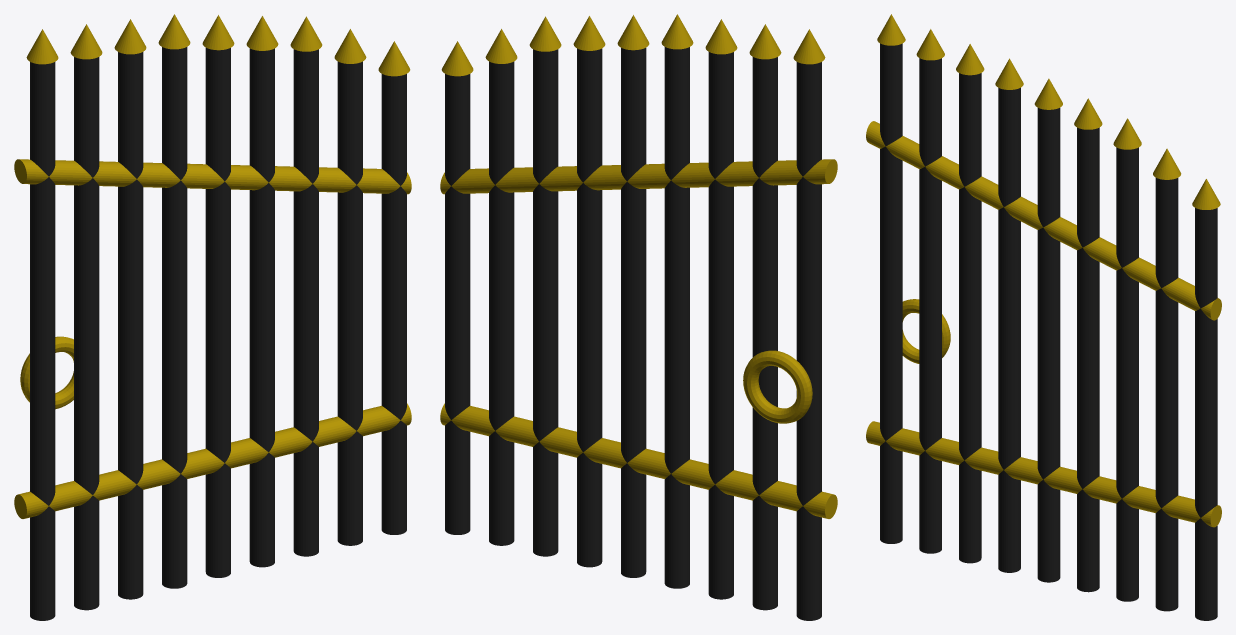
The model's file is parkGateL.fbx.
3 views of the same model, side by side, from view 1: azimuth 30°, elevation 25°; view 2: azimuth 150°, elevation 25°; view 3: azimuth 330°, elevation 25° (orthographic). The views are drawn at different scales.
Parts seen in each view (by area): view 1: Cube; view 2: Cube; view 3: Cube.
Part boxes in pixels (x1=…): Cube: x1=14, y1=14, x2=411, y2=620; Cube: x1=440, y1=14, x2=837, y2=620; Cube: x1=866, y1=14, x2=1221, y2=620.
Size of the model in its own units: 352 by 510 by 33.63.
